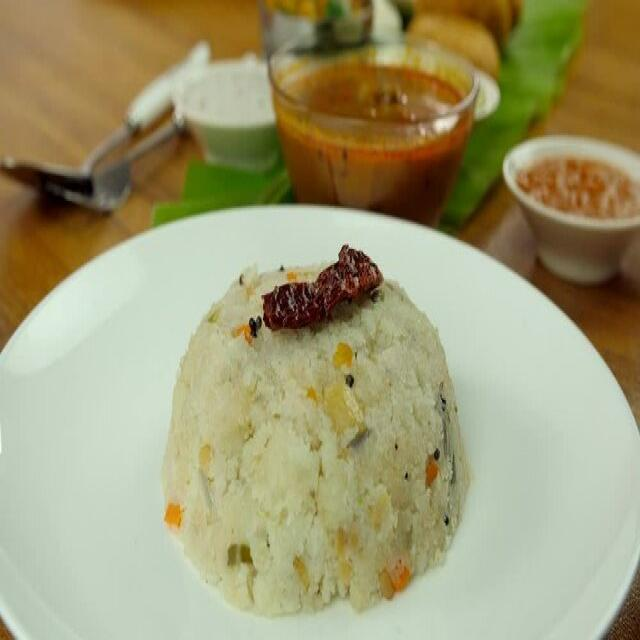UPMA: (163, 245, 468, 613)
